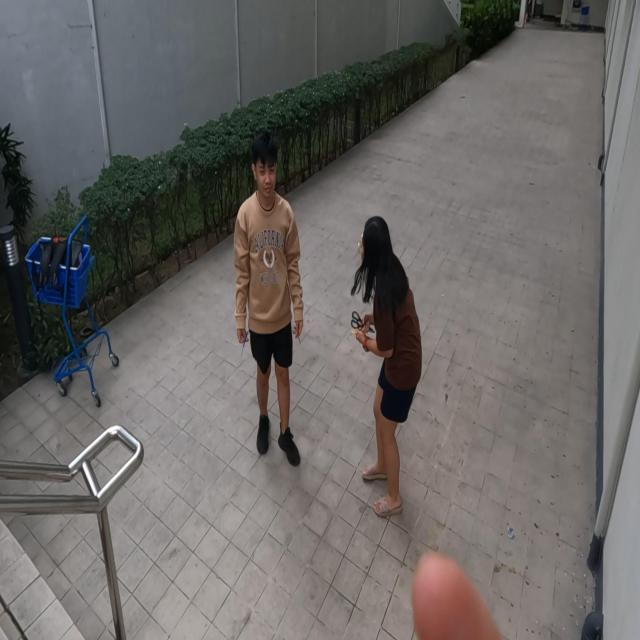scissor: (351, 311, 375, 334)
